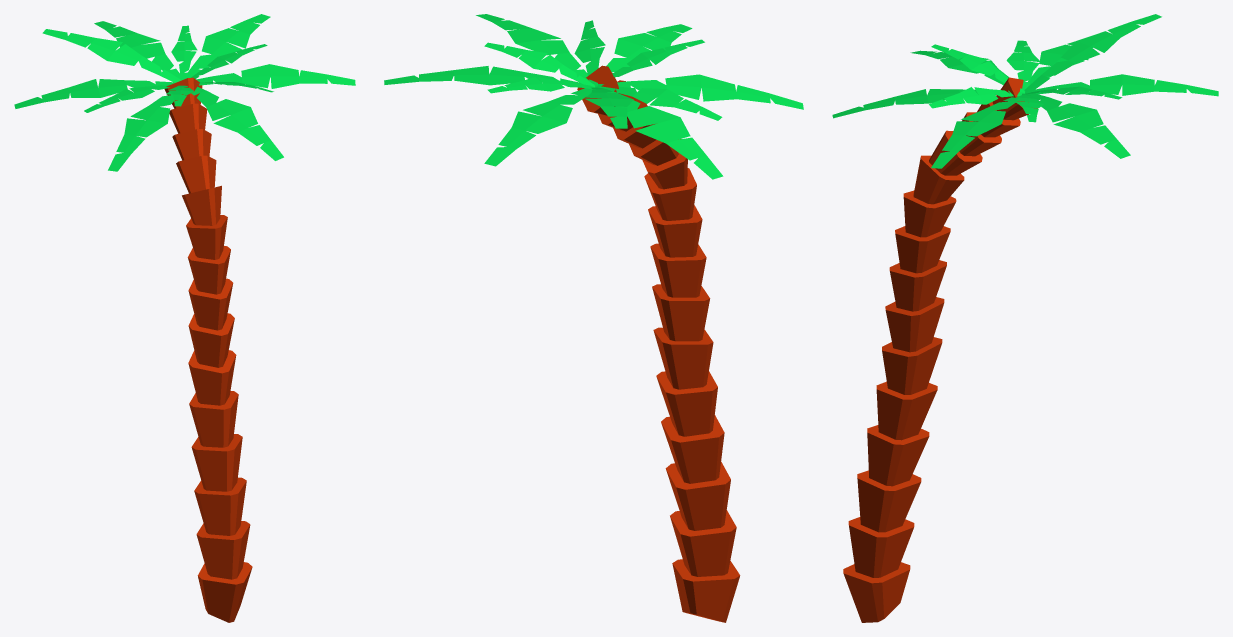
File: PalmTree.fbx
The picture shows the model from 3 angles, left to right: view 1: azimuth 30°, elevation 25°; view 2: azimuth 150°, elevation 25°; view 3: azimuth 270°, elevation 25°; orthographic projection. The views are drawn at different scales.
Parts seen in each view (by area): view 1: Cube, Plane.003, Plane.002, Plane.004, Plane.007, Plane.001, Plane.005, Plane, Plane.008, Plane.006, Plane.014, Plane.015 (+4 smaller); view 2: Cube, Plane.004, Plane.005, Plane, Plane.001, Plane.002, Plane.003, Plane.006, Plane.009, Plane.007, Plane.010, Plane.011 (+4 smaller); view 3: Cube, Plane.001, Plane.007, Plane, Plane.002, Plane.003, Plane.010, Plane.006, Plane.011, Plane.005, Plane.004, Plane.013 (+2 smaller).
Part boxes in pixels (left/top/right/bottom): Cube: left=164, top=77, right=252, bottom=622; Plane.003: left=191, top=87, right=283, bottom=160; Plane.002: left=196, top=64, right=355, bottom=88; Plane.004: left=108, top=92, right=174, bottom=171; Plane.007: left=43, top=29, right=181, bottom=82; Plane.001: left=187, top=14, right=270, bottom=77; Plane.005: left=14, top=79, right=174, bottom=108; Plane: left=94, top=21, right=180, bottom=79; Plane.008: left=171, top=25, right=197, bottom=79; Plane.006: left=84, top=84, right=170, bottom=112; Plane.014: left=196, top=65, right=354, bottom=87; Plane.015: left=193, top=88, right=282, bottom=160; Cube: left=577, top=65, right=740, bottom=622; Plane.004: left=617, top=74, right=803, bottom=109; Plane.005: left=607, top=91, right=723, bottom=179; Plane: left=484, top=88, right=595, bottom=166; Plane.001: left=384, top=66, right=591, bottom=88; Plane.002: left=476, top=14, right=589, bottom=81; Plane.003: left=606, top=24, right=691, bottom=77; Plane.006: left=599, top=86, right=722, bottom=120; Plane.009: left=484, top=42, right=594, bottom=87; Plane.007: left=585, top=87, right=633, bottom=128; Plane.010: left=574, top=20, right=605, bottom=87; Plane.011: left=595, top=39, right=704, bottom=87; Cube: left=843, top=77, right=1037, bottom=622; Plane.001: left=1028, top=93, right=1130, bottom=158; Plane.007: left=1024, top=14, right=1161, bottom=93; Plane: left=1032, top=74, right=1218, bottom=96; Plane.002: left=931, top=95, right=1026, bottom=168; Plane.003: left=832, top=89, right=995, bottom=118; Plane.010: left=929, top=87, right=1023, bottom=108; Plane.006: left=1006, top=40, right=1040, bottom=90; Plane.011: left=931, top=44, right=1024, bottom=93; Plane.005: left=1028, top=41, right=1092, bottom=85; Plane.004: left=910, top=50, right=1008, bottom=85; Plane.013: left=1029, top=94, right=1127, bottom=157.
Size of the model in its own units: 740 by 1331 by 809.
